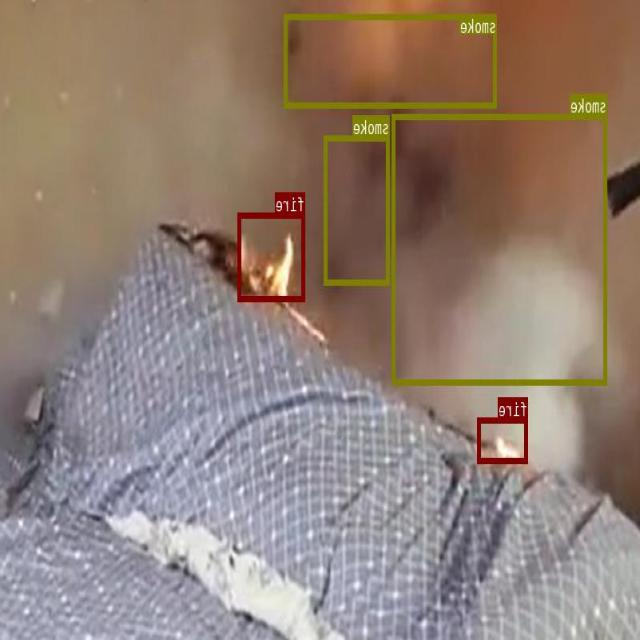fire: (239, 212, 305, 300), (478, 416, 529, 462)
smoke: (392, 113, 608, 384), (285, 13, 497, 107), (325, 134, 391, 284)
